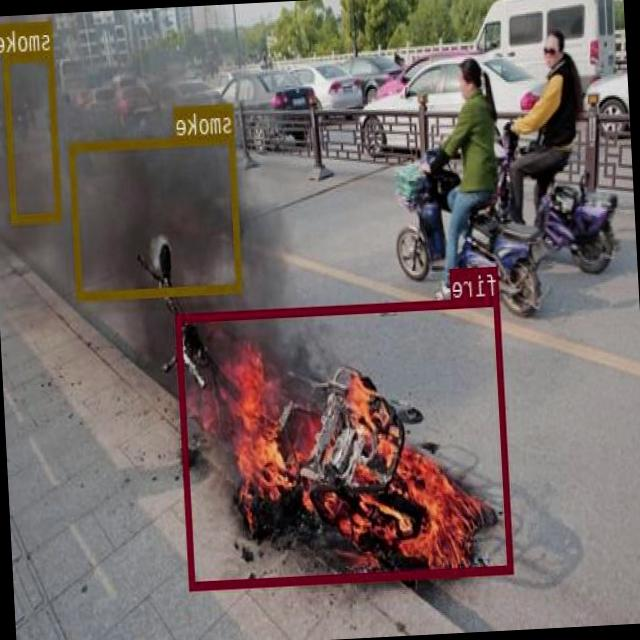fire: (177, 296, 515, 590)
smoke: (71, 134, 244, 298), (4, 51, 63, 222)
